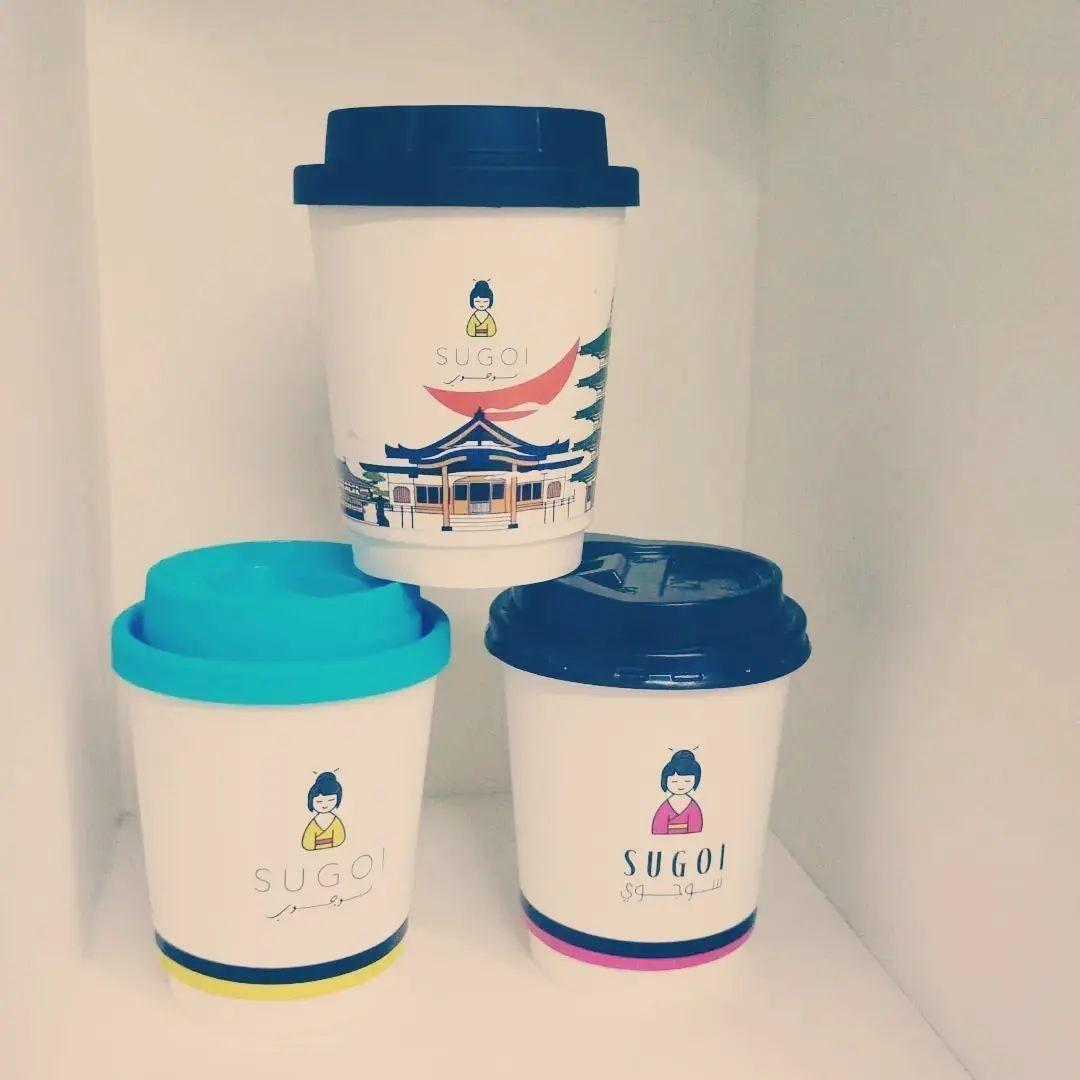cup-disposable: (276, 93, 650, 597), (94, 528, 456, 1011), (469, 528, 838, 987)
